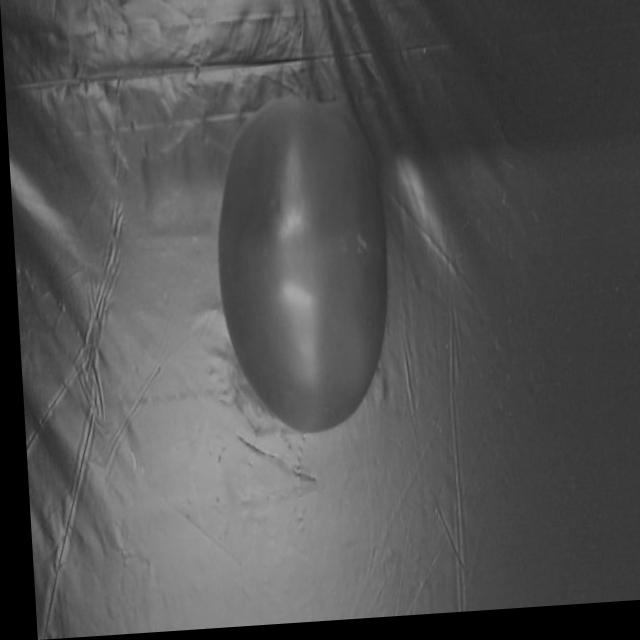kirmizi: (198, 87, 399, 447)
